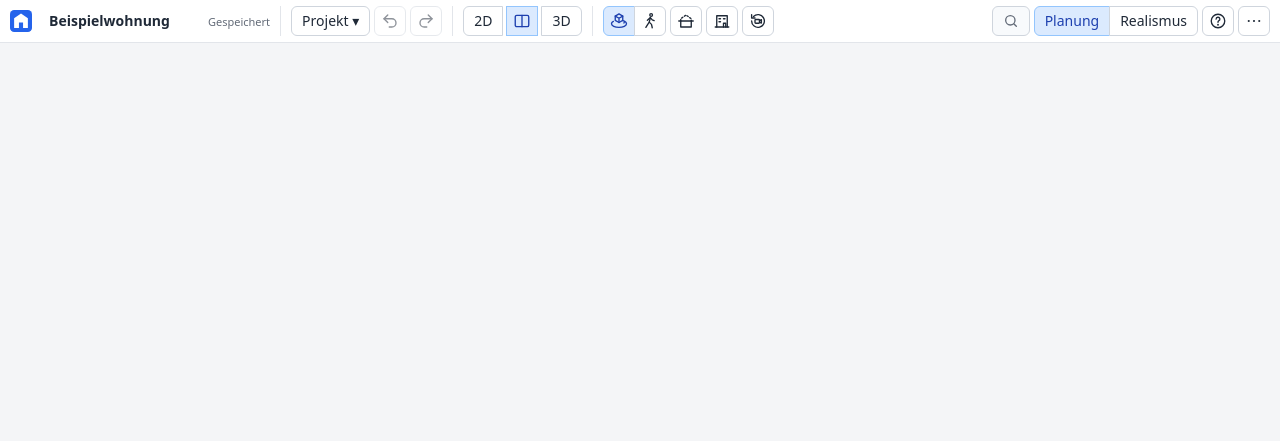
it: toolbar (#100, #103) › "Erste Schritte" reopens the start card, only for an empty project
Click the button "Projekt ▾": x=331, y=21 [291,6,370,36]
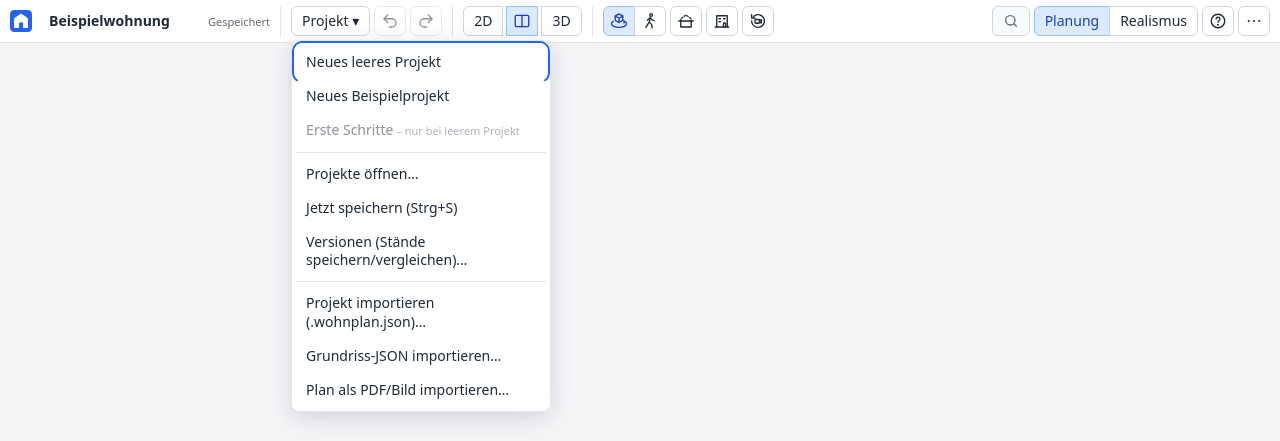
Check: the button "Erste Schritte – nur bei leerem Projekt" is disabled, box [296,114,546,148]
Check: the button "Erste Schritte – nur bei leerem Projekt" is shown, box [296,114,546,148]
Press Escape in the button "Neues leeres Projekt", box [296,45,546,79]
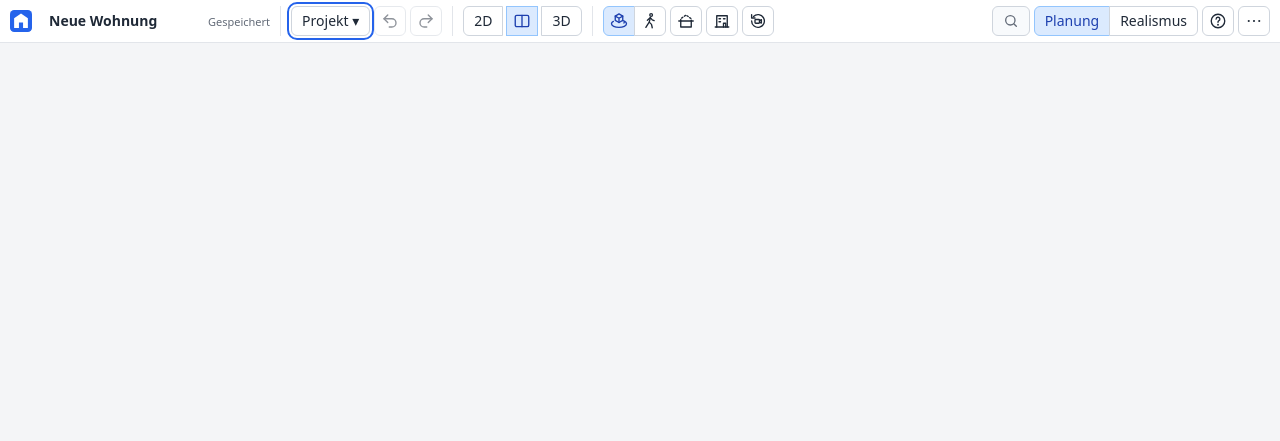
Click the button "Projekt ▾": x=331, y=21 [291,6,370,36]
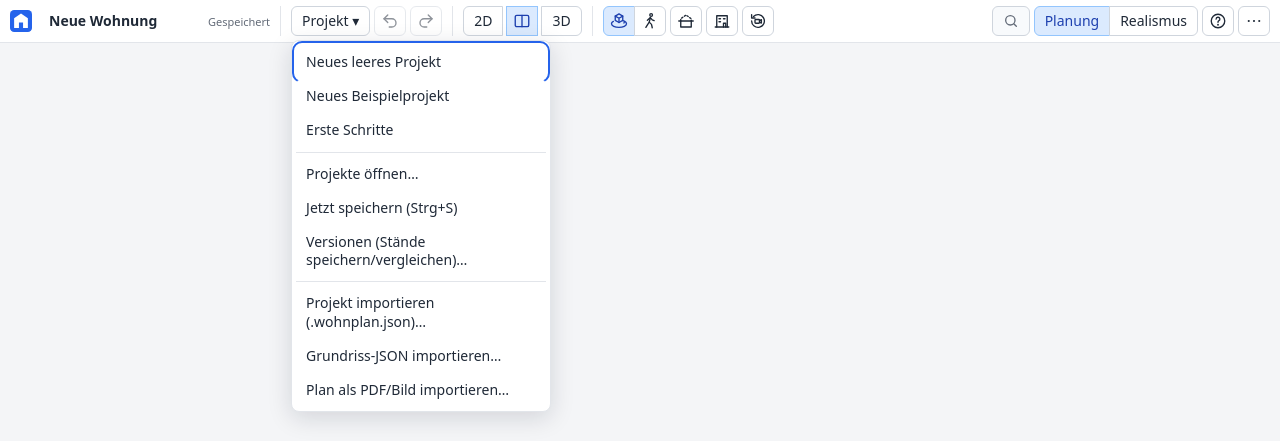
Check: the button "Erste Schritte" is enabled
Click the button "Erste Schritte": x=421, y=131 [296,114,546,148]
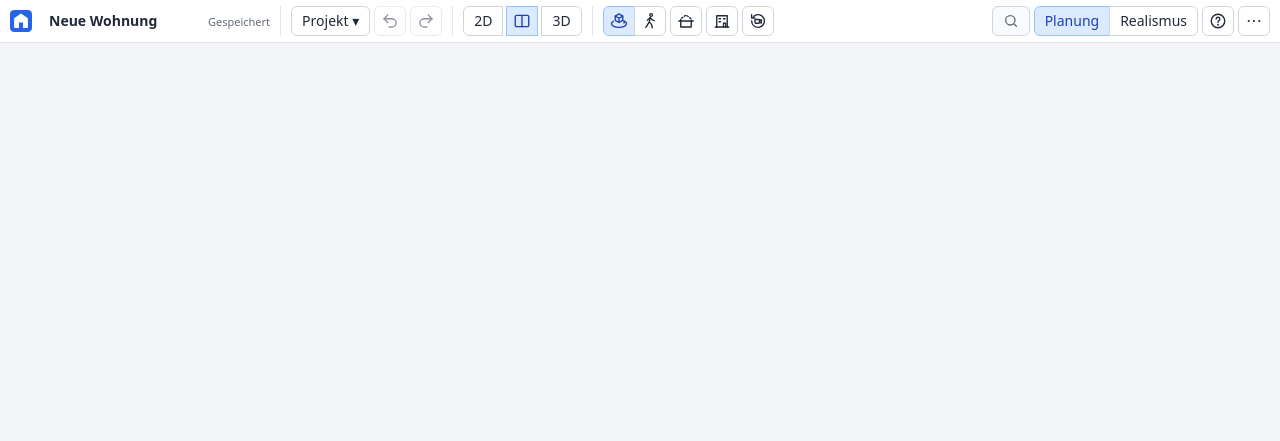
Check: the element with id "toolbar-menu-project" is gone
